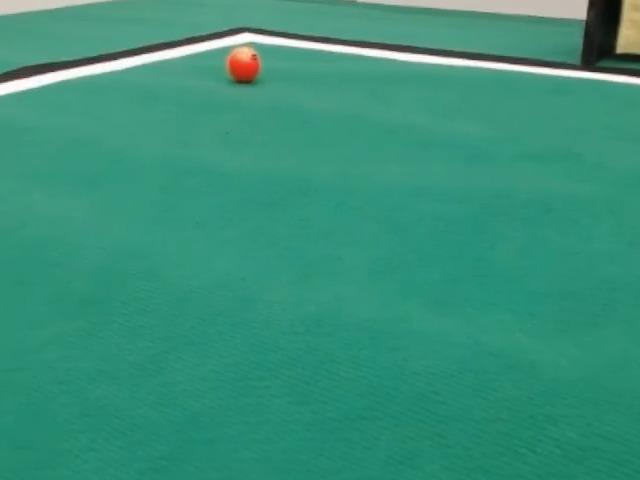Ball: (226, 46, 260, 83)
